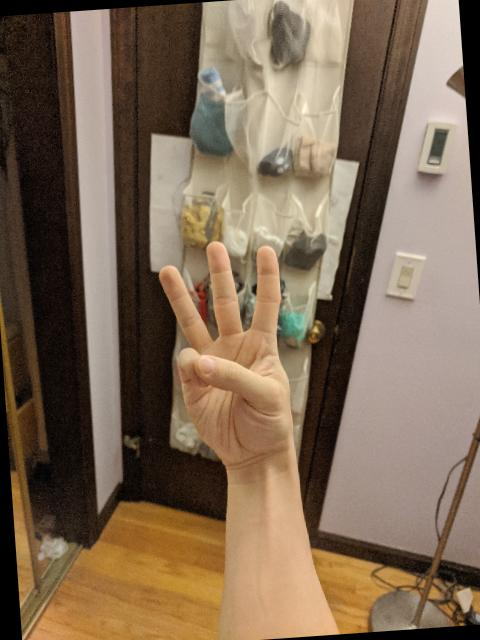W: (152, 232, 302, 470)
